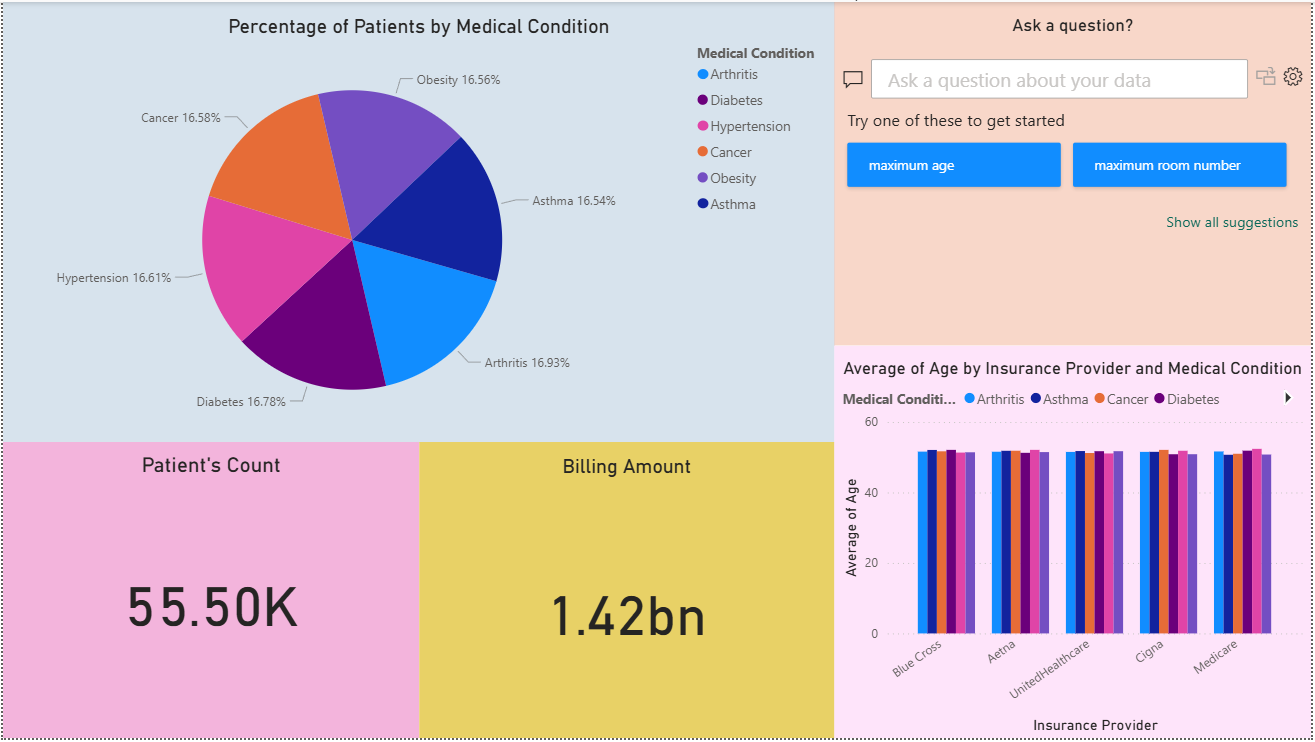

This screenshot's page, from the dashboard's own definition file:
{"tool":"powerbi","page":{"name":"Page 2","canvas":[1280,720],"ordinal":1},"visuals":[{"type":"pieChart","title":"Percentage of Patients by Medical Condition","fields":{"Category":["healthcare_dataset.Medical Condition"],"Y":["healthcare_dataset.Name"]},"box":[0,0,813.7,430.9],"z":0},{"type":"card","title":"Patient''s Count","fields":{"Values":["healthcare_dataset.Name"]},"box":[0,430.9,407.5,289.5],"z":1000},{"type":"card","title":"Billing Amount","fields":{"Values":["healthcare_dataset.Billing Amount"]},"box":[407.5,430.9,406.2,289.5],"z":2000},{"type":"qnaVisual","title":"Ask a question?","box":[813.2,0,467.1,336.3],"z":3000},{"type":"lineClusteredColumnComboChart","fields":{"Category":["healthcare_dataset.Insurance Provider"],"Y":["healthcare_dataset.Age"],"Series":["healthcare_dataset.Medical Condition"]},"box":[813.7,336.2,466.6,384.2],"z":5000}]}

Visuals, with their boxes in screenshot pixels (x1, y1, x2, y2), scaled from the page's 1280x720 canvas onto the 1315x742 screenshot:
"Percentage of Patients by Medical Condition" pieChart: [left=0, top=0, right=836, bottom=444]
"Patient''s Count" card: [left=0, top=444, right=419, bottom=741]
"Billing Amount" card: [left=419, top=444, right=836, bottom=741]
"Ask a question?" qnaVisual: [left=835, top=0, right=1314, bottom=347]
lineClusteredColumnComboChart - healthcare_dataset.Insurance Provider x healthcare_dataset.Age: [left=836, top=346, right=1314, bottom=741]
